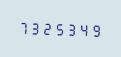five: (53, 19, 64, 37)
four: (77, 20, 88, 37)
nine: (89, 21, 100, 38)
seven: (17, 18, 28, 35)
three: (29, 18, 40, 36), (65, 20, 76, 37)
two: (41, 19, 52, 36)
